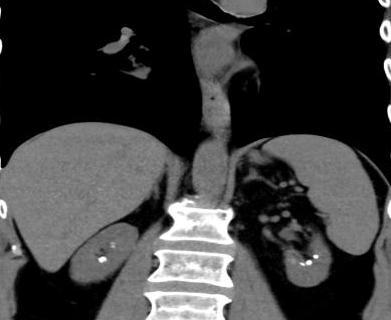Tas_Var: (96, 254, 110, 264), (305, 258, 313, 266), (312, 253, 320, 260), (299, 261, 305, 268), (108, 241, 117, 245), (110, 245, 117, 248)
